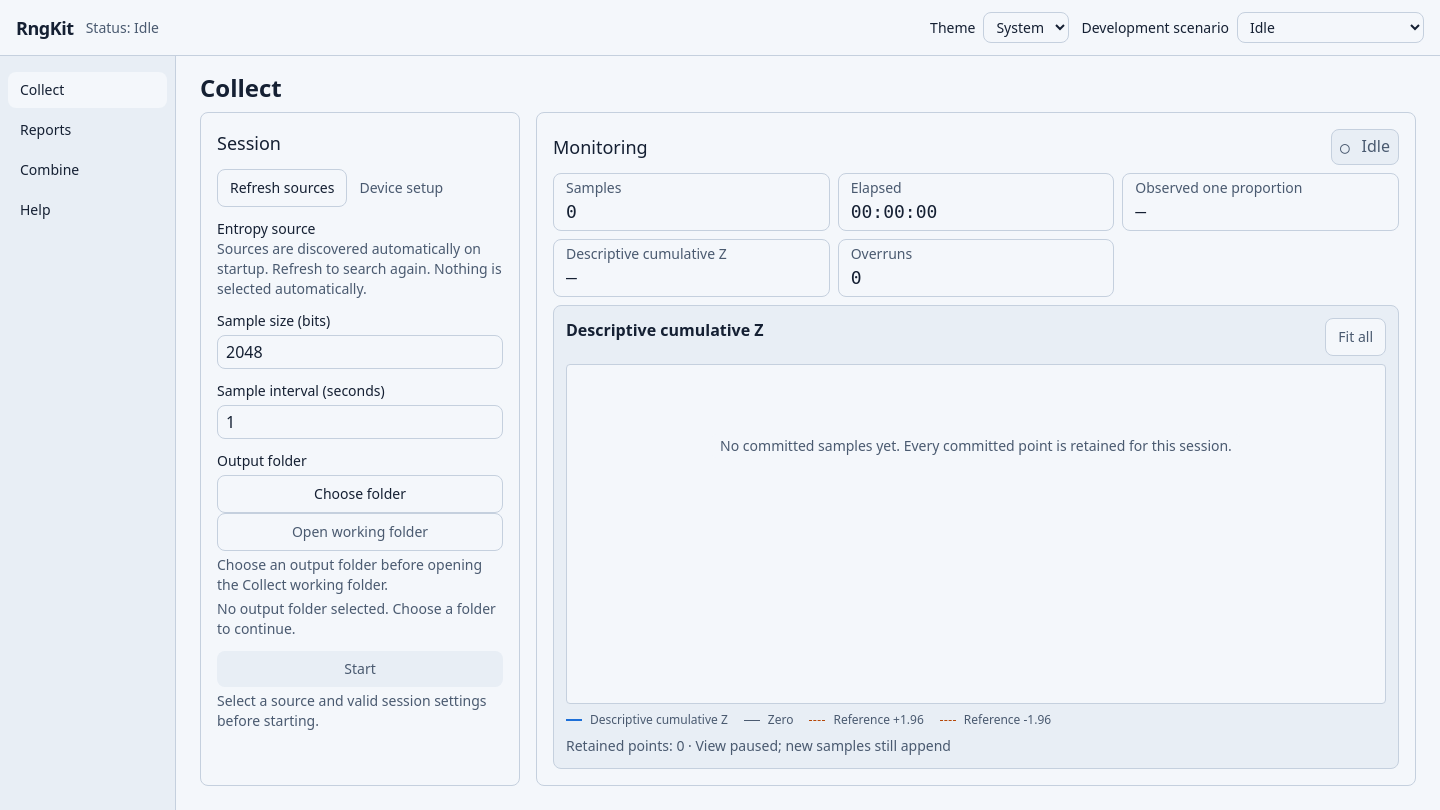
Test: AppShell › exposes the development scenario switch in unit tests
Select "Ready" in the dropdown with test id "dev-scenario-switch" at (1330, 28), box [1237,12,1424,43]
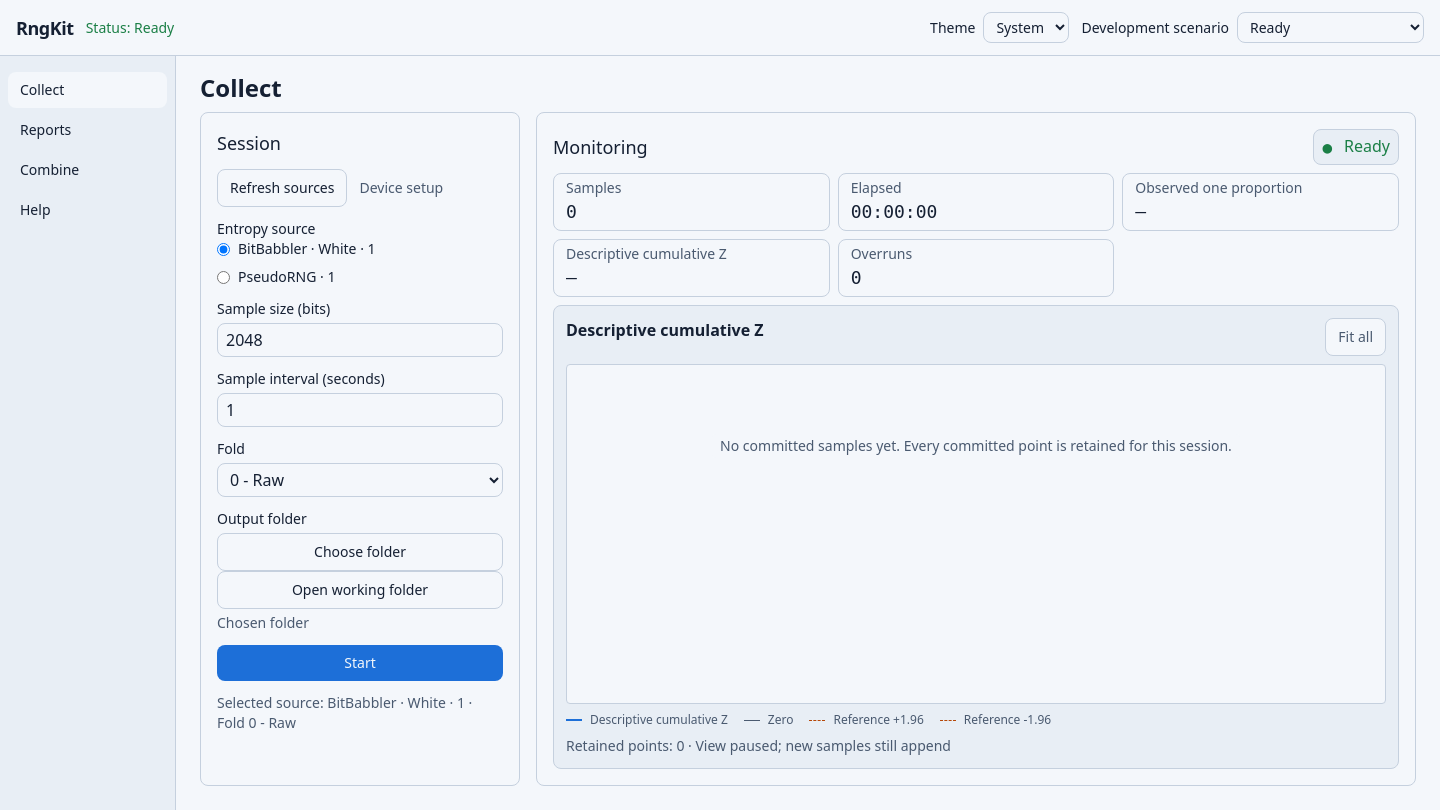
Result: the radio button labelled "BitBabbler · White · 1" is shown at [217,242,230,256]
